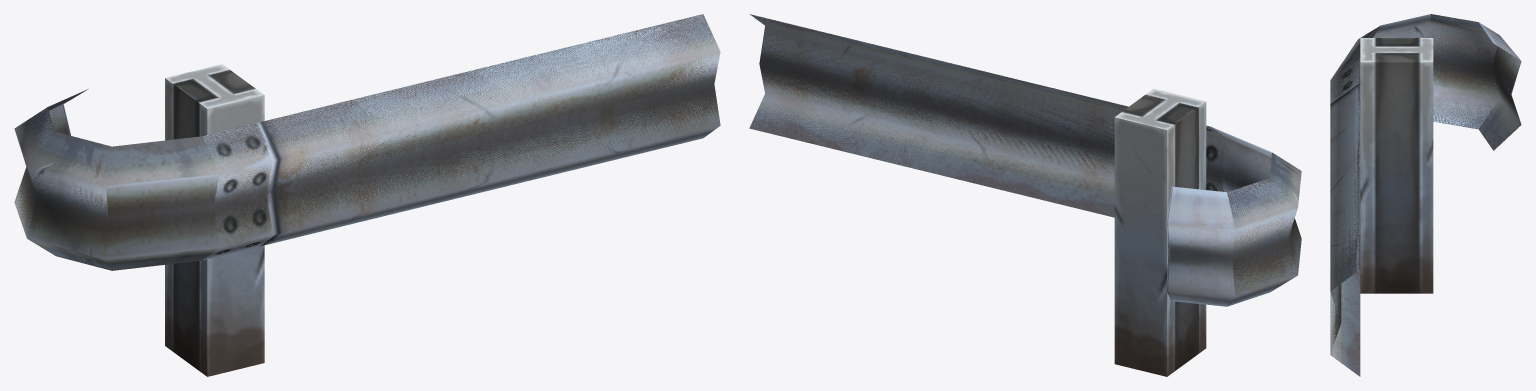
File: guardRail_End02_L.fbx
The picture shows the model from 3 angles, left to right: view 1: azimuth 30°, elevation 25°; view 2: azimuth 150°, elevation 25°; view 3: azimuth 270°, elevation 25°; orthographic projection. The views are drawn at different scales.
Visible parts, largest first — view 1: guardRail_End02_L; view 2: guardRail_End02_L; view 3: guardRail_End02_L.
Boxes of the visible parts, x1,y1,x2,y2 form: guardRail_End02_L: (14,14,720,376); guardRail_End02_L: (749,14,1301,376); guardRail_End02_L: (1330,14,1521,376).
Bounding box in the file's own units: 204 × 82.17 × 61.5.
